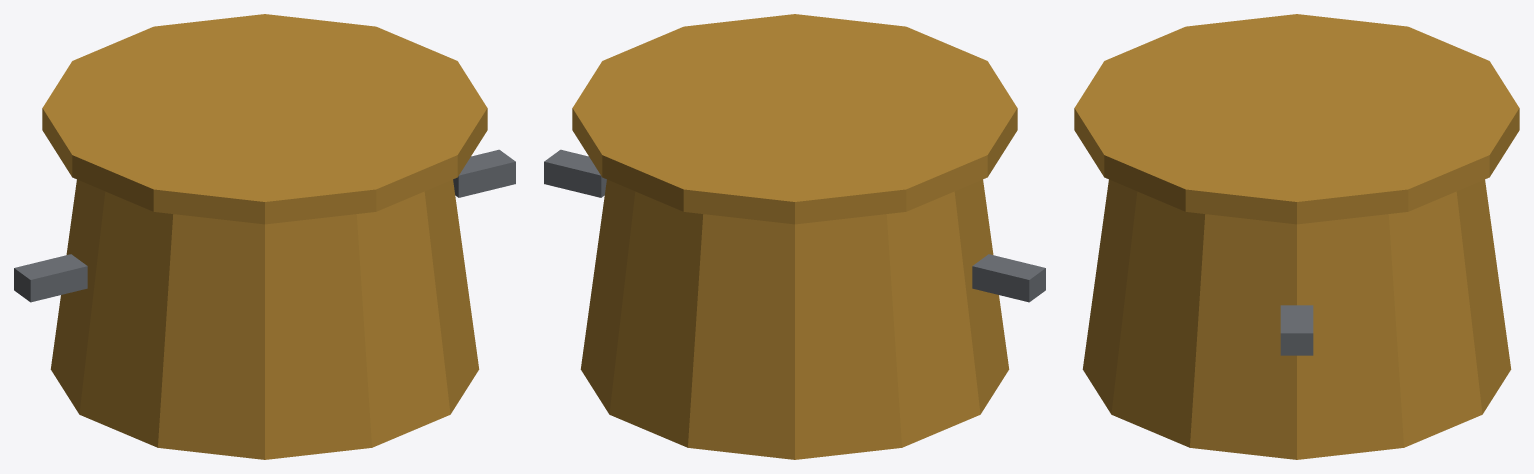
File: CopperPot.fbx
The picture shows the model from 3 angles, left to right: view 1: azimuth 30°, elevation 25°; view 2: azimuth 150°, elevation 25°; view 3: azimuth 270°, elevation 25°; orthographic projection.
Visible parts, largest first — view 1: CopperPot; view 2: CopperPot; view 3: CopperPot.
Boxes of the visible parts, left/top/right/bottom form: CopperPot: left=14, top=14, right=515, bottom=459; CopperPot: left=544, top=14, right=1045, bottom=459; CopperPot: left=1074, top=14, right=1519, bottom=459.
Size of the model in its own units: 34 by 17.5 by 27.
2 materials, 2 textured.
